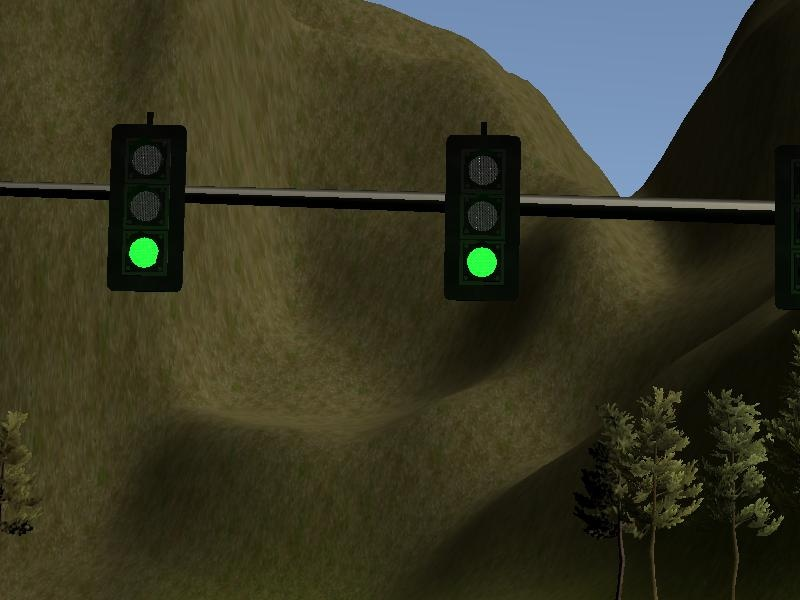GREEN: (105, 120, 187, 294), (444, 133, 522, 298)
